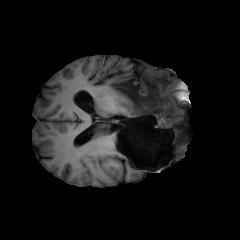glioma: (106, 69, 184, 148)
